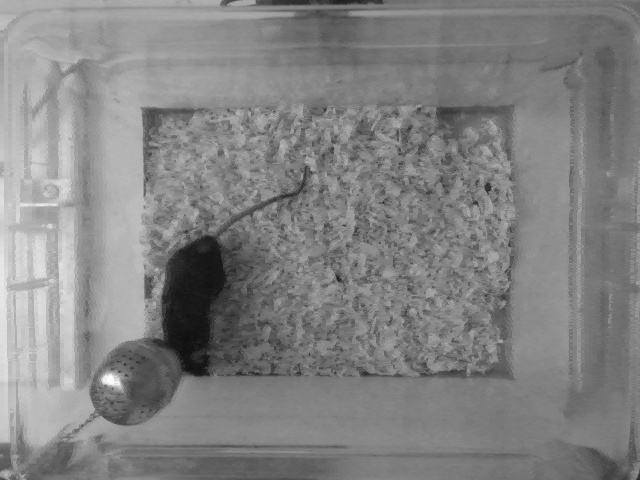mice: (159, 161, 307, 380)
